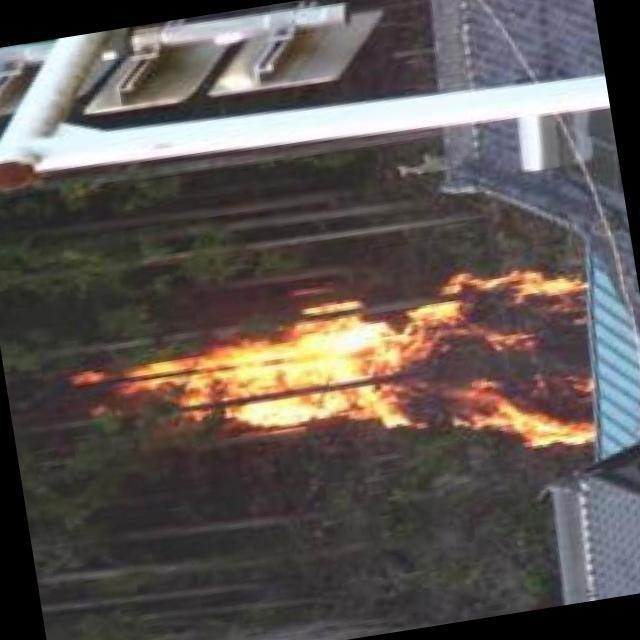Fire: (86, 254, 613, 519)
